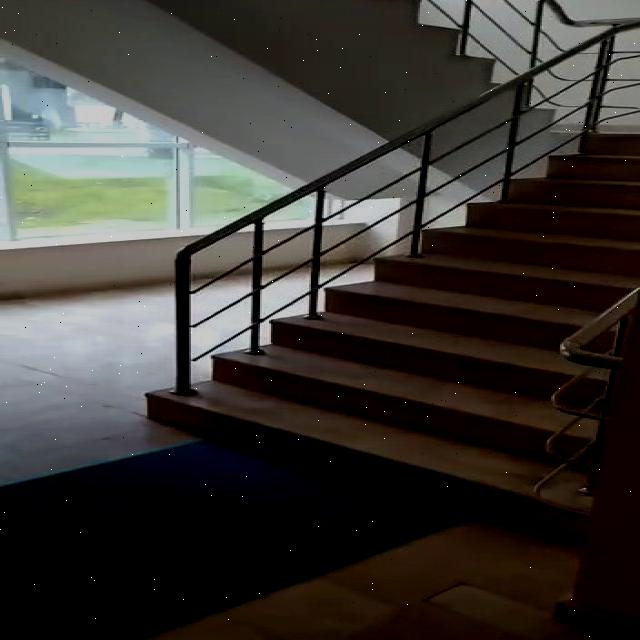stairs: (144, 129, 638, 540)
